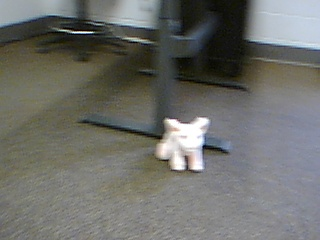piggy: (155, 115, 211, 173)
